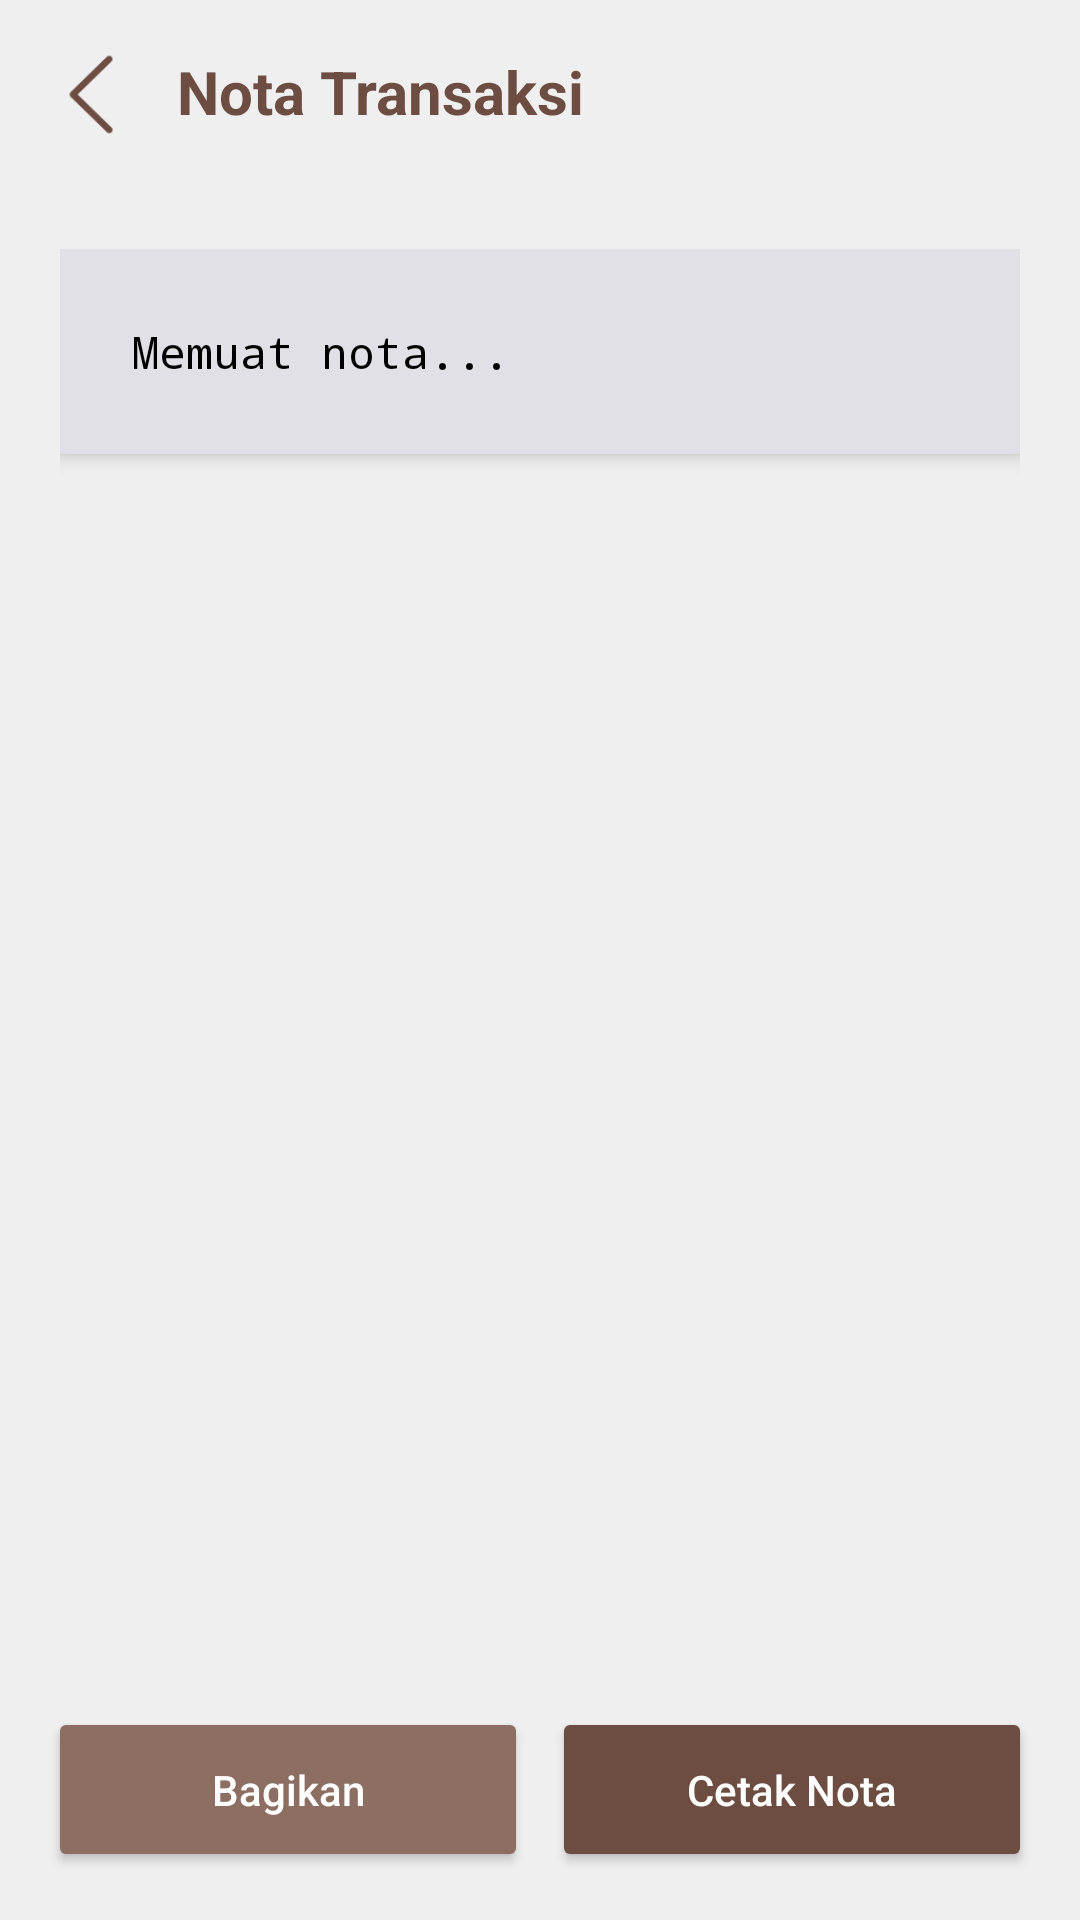

Icon bounding boxes for this 1080 × 1920 phone screenshot, format (x1,y1,x2,y2):
Kembali: (69,55,113,134)
